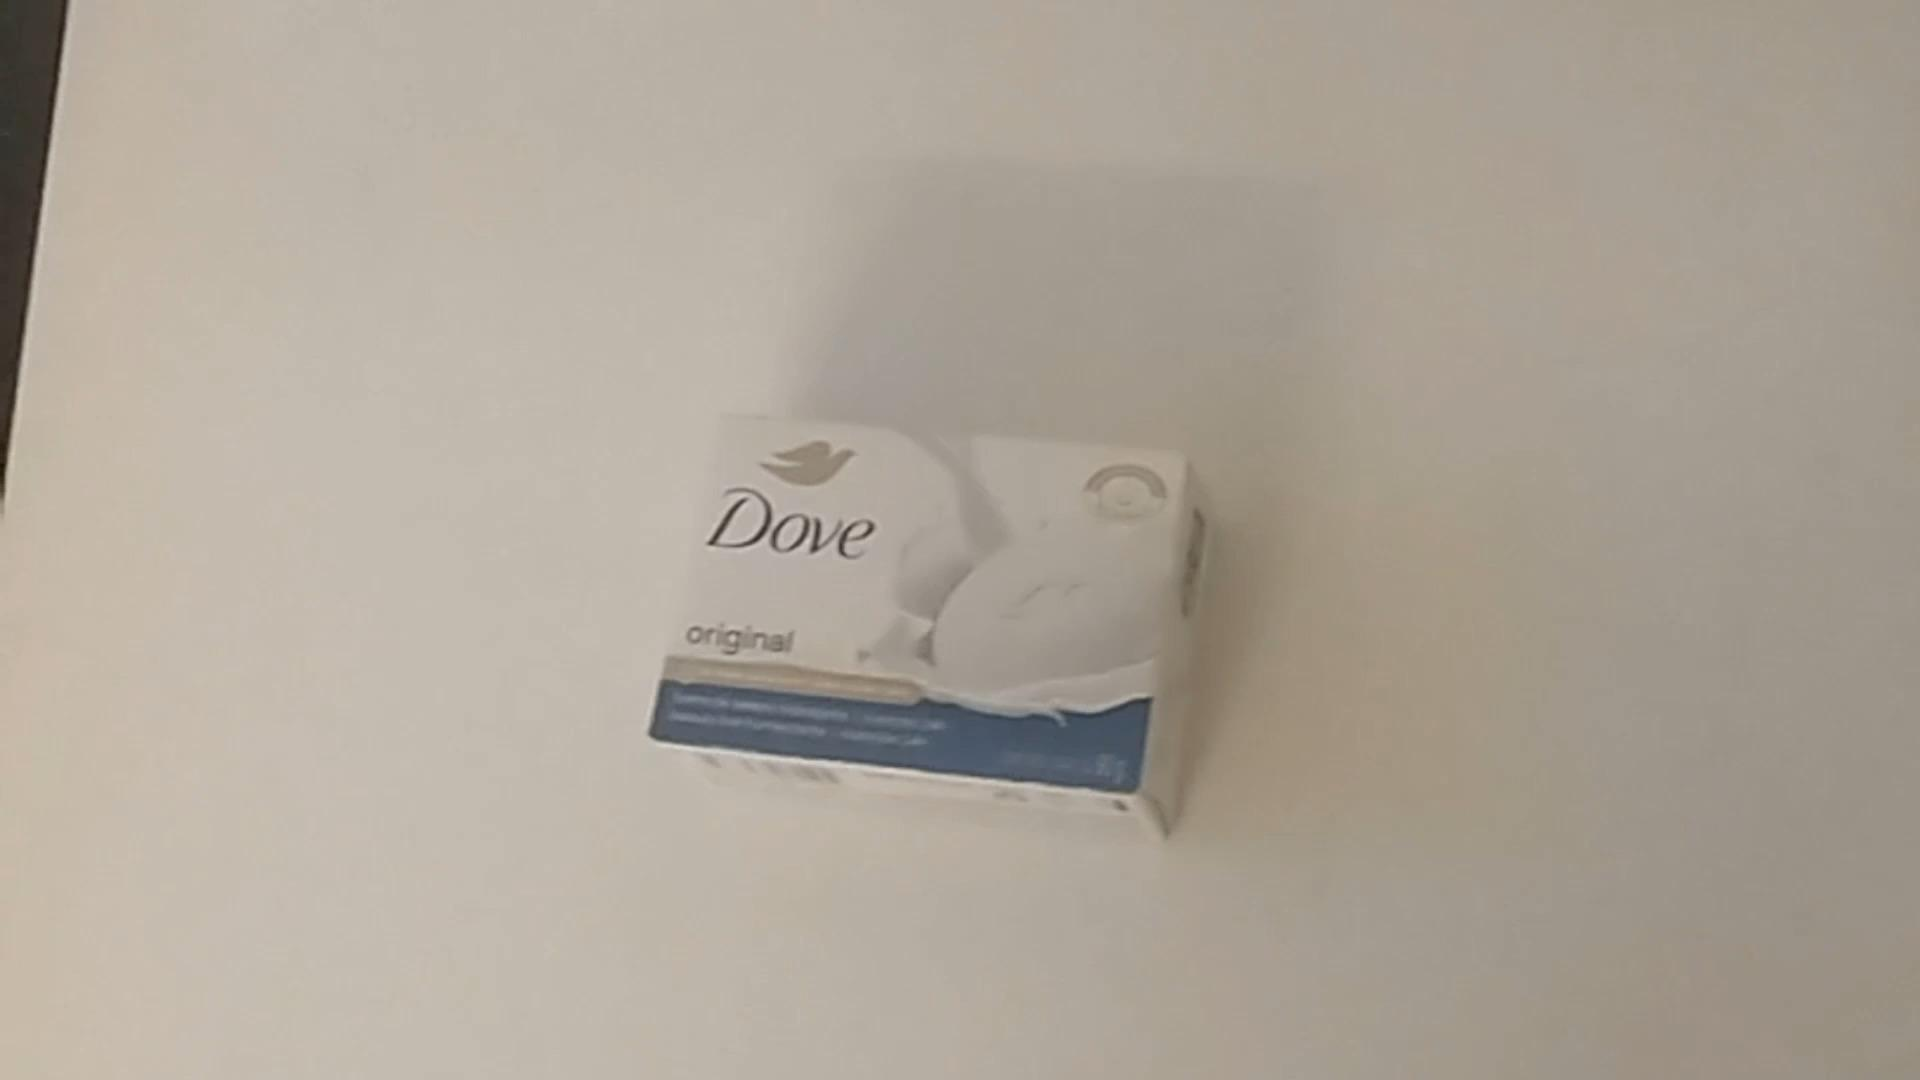soap: (641, 417, 1211, 840)
